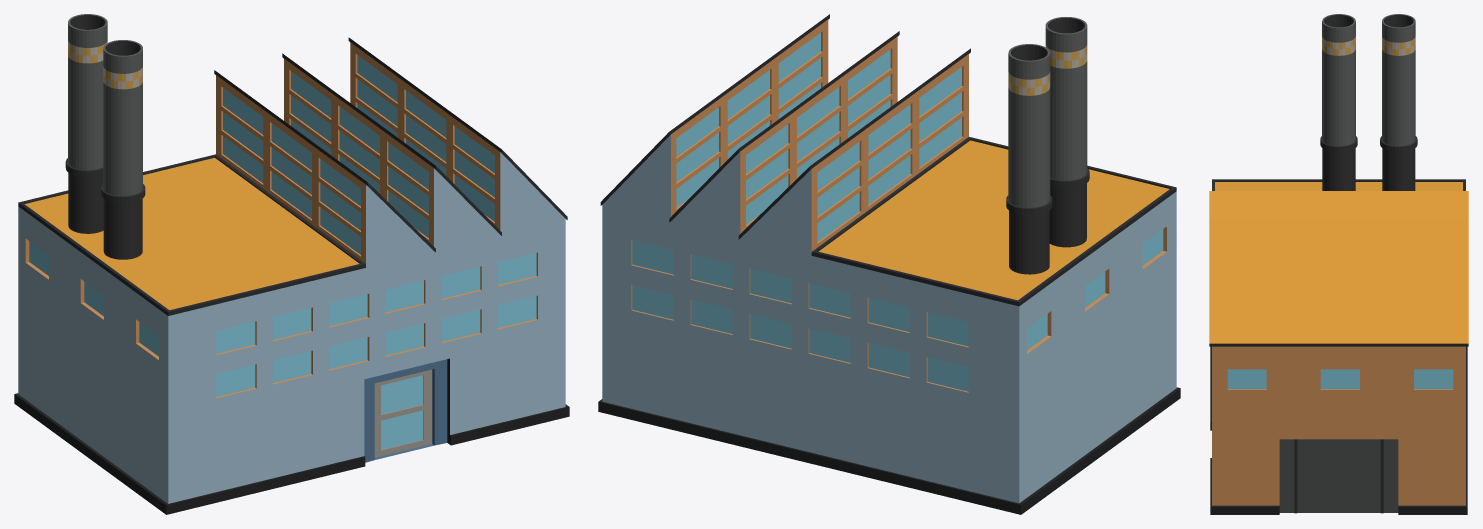
The model's file is SM_factory_01_C.gltf.
3 views of the same model, side by side, from view 1: azimuth 30°, elevation 25°; view 2: azimuth 150°, elevation 25°; view 3: azimuth 270°, elevation 25° (orthographic). The views are drawn at different scales.
Parts seen in each view (by area): view 1: SM_factory_01_C; view 2: SM_factory_01_C; view 3: SM_factory_01_C.
Part boxes in pixels (<box>): SM_factory_01_C: <box>14,14,569,514</box>; SM_factory_01_C: <box>598,14,1180,514</box>; SM_factory_01_C: <box>1209,14,1468,514</box>.
Bounding box in the file's own units: 4.67 × 4.46 × 3.08.
